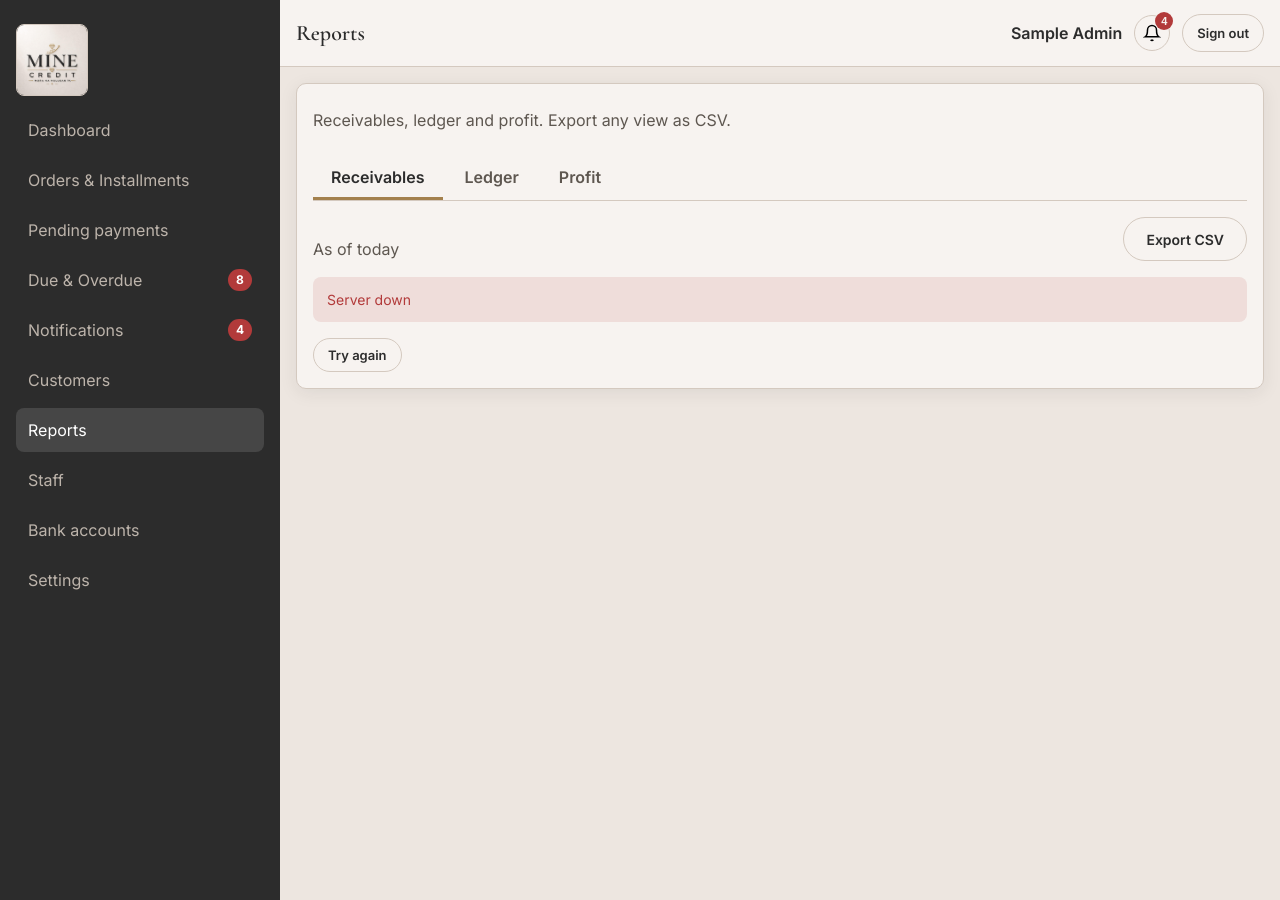
admin reports page as admin › shows the error with a retry
Expected: the message reads "Server down", [327,291,411,308]
Click the button "Try again" at (357, 355), box [313,338,402,372]
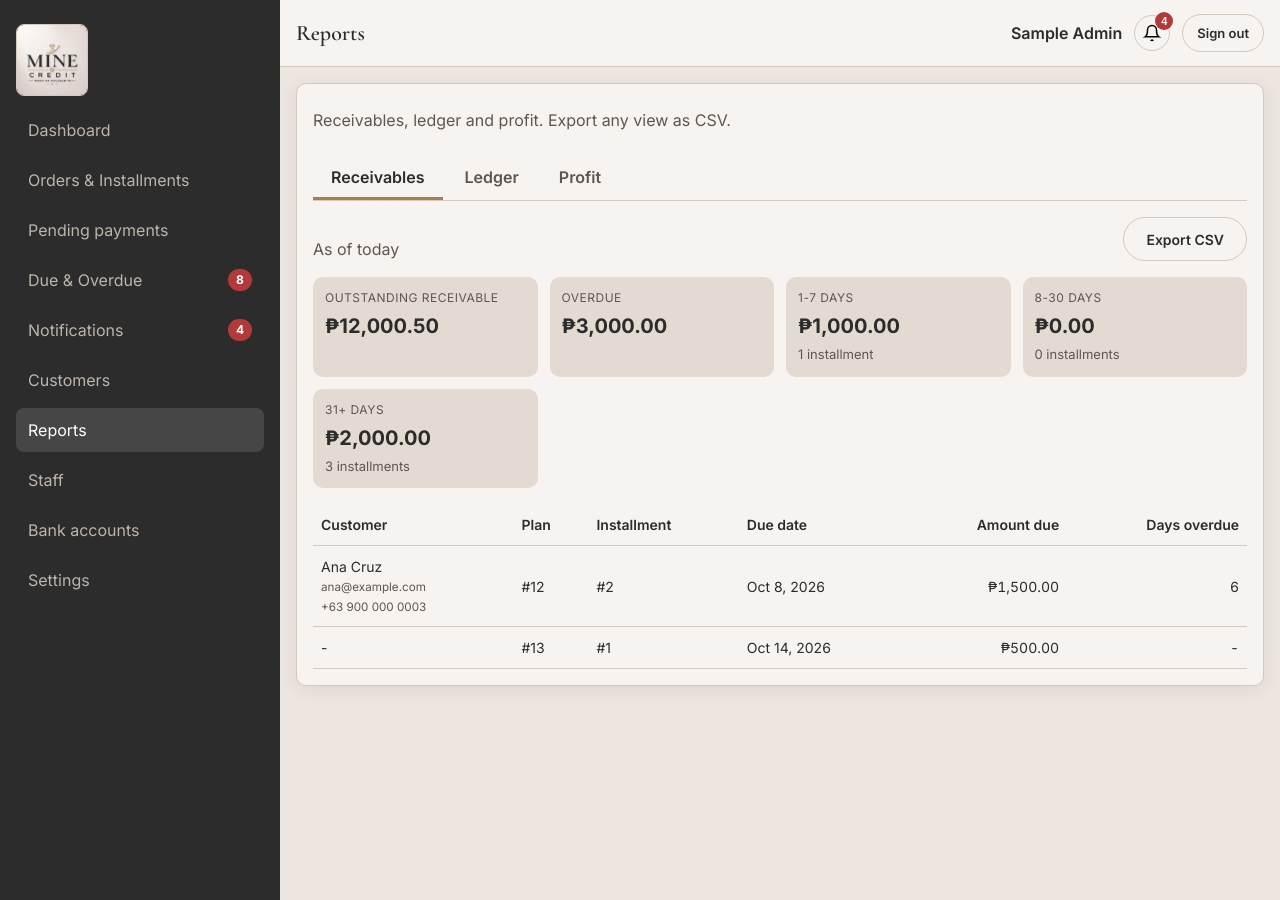
Now the text "Ana Cruz" is shown, box [321,558,382,575]
